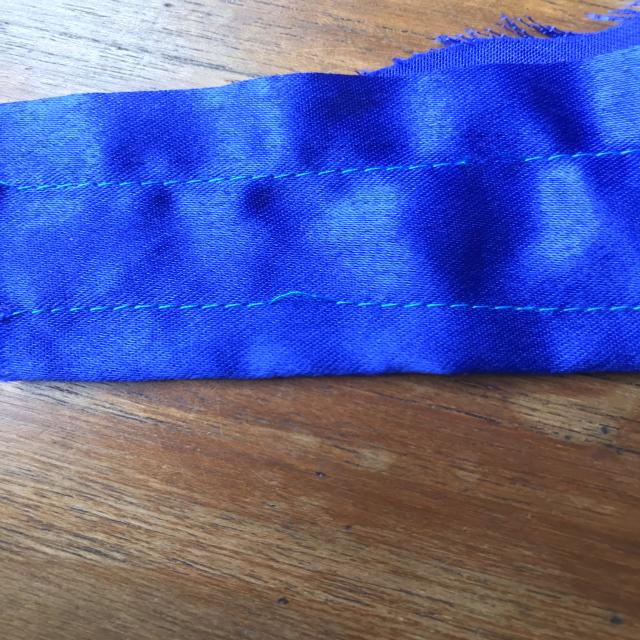broken: (401, 132, 558, 188)
good: (419, 294, 566, 329)
skip: (242, 268, 352, 326)
